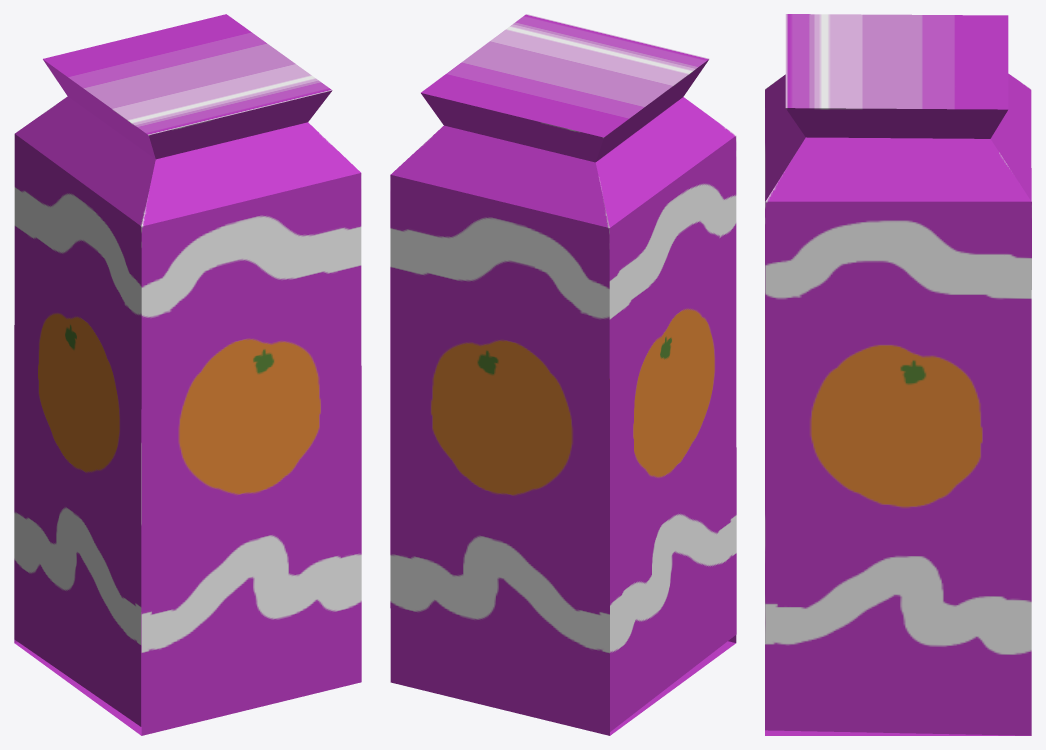
File: orangeJuice.glb
3 renders of one model, left to right at view 1: azimuth 30°, elevation 25°; view 2: azimuth 150°, elevation 25°; view 3: azimuth 270°, elevation 25°, orthographic. The views are drawn at different scales.
Visible parts, largest first — view 1: orangeJuice; view 2: orangeJuice; view 3: orangeJuice.
Boxes of the visible parts, left/top/right/bottom form: orangeJuice: left=14, top=14, right=361, bottom=735; orangeJuice: left=390, top=14, right=736, bottom=735; orangeJuice: left=765, top=14, right=1031, bottom=735.
Bounding box in the file's own units: 0.1525 × 0.3897 × 0.1525.
1 material, 1 textured.
